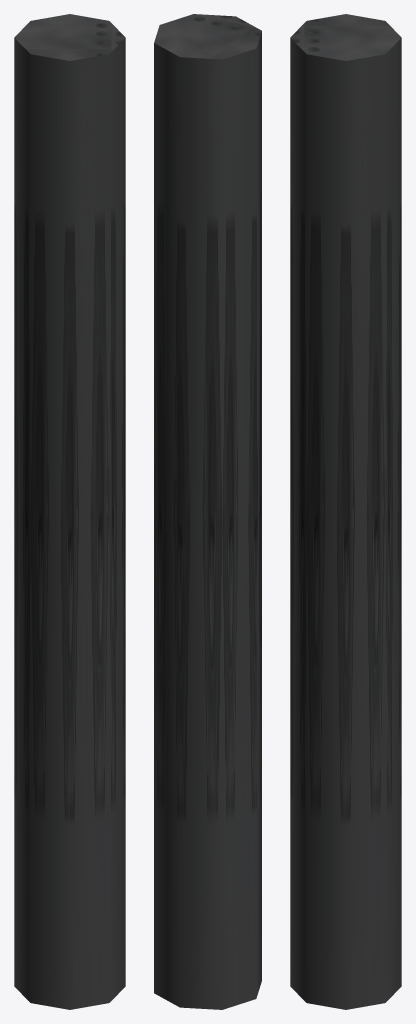
Rendered from Pipe_Navmesh.obj.
The picture shows the model from 3 angles, left to right: view 1: azimuth 90°, elevation 25°; view 2: azimuth 150°, elevation 25°; view 3: azimuth 270°, elevation 25°; orthographic projection.
Visible parts, largest first — view 1: Circle.002; view 2: Circle.002; view 3: Circle.002.
Part boxes in pixels (x1,y1,x2,y2): Circle.002: (14, 14, 125, 1009); Circle.002: (154, 14, 261, 1009); Circle.002: (290, 14, 401, 1009).
Size of the model in its own units: 0.33 by 3.1 by 0.33.
Materials: 1 (1 with a texture image).
